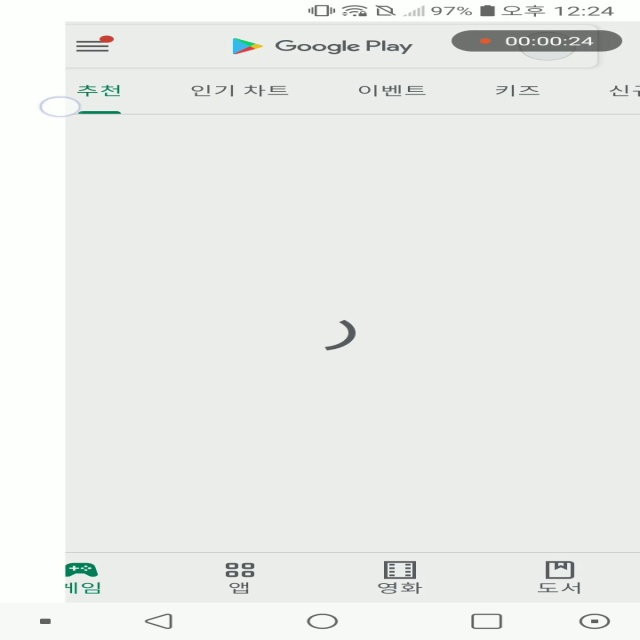Cursor: (40, 96, 84, 118)
